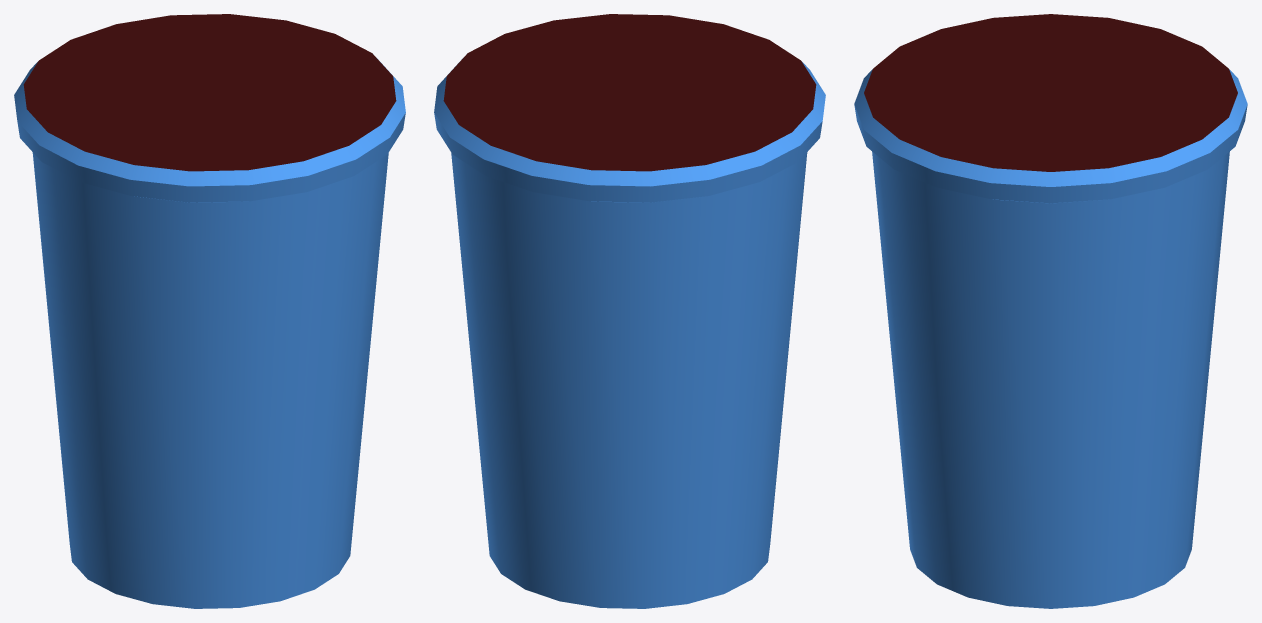
The model's file is can_A.FBX.
The picture shows the model from 3 angles, left to right: view 1: azimuth 30°, elevation 25°; view 2: azimuth 150°, elevation 25°; view 3: azimuth 270°, elevation 25°; orthographic projection.
Visible parts, largest first — view 1: can_normal_A; view 2: can_normal_A; view 3: can_normal_A.
Part boxes in pixels (box(x1,y1,x2,y2)): can_normal_A: box(14, 14, 405, 608); can_normal_A: box(434, 14, 825, 608); can_normal_A: box(854, 14, 1247, 608).
Bounding box in the file's own units: 0.3448 × 0.4412 × 0.3448.
